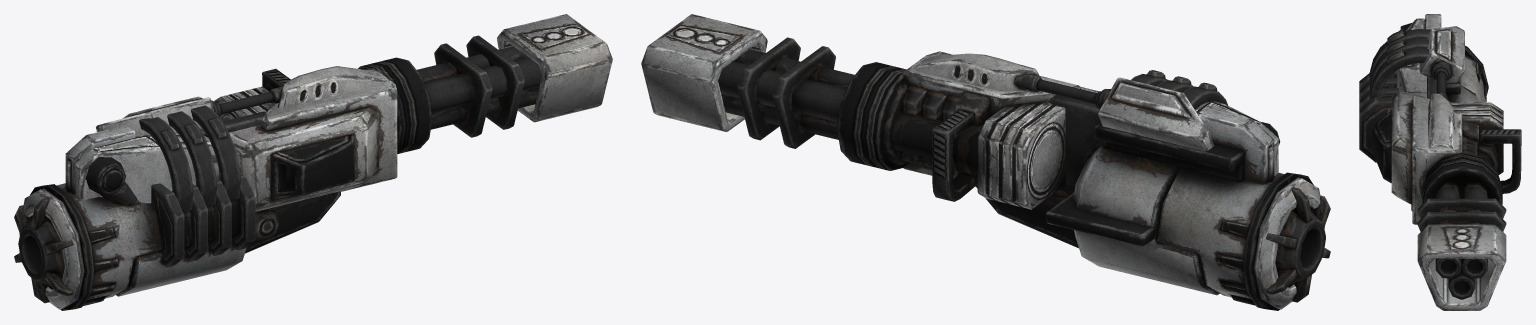
File: ion_displacer.obj
The picture shows the model from 3 angles, left to right: view 1: azimuth 30°, elevation 25°; view 2: azimuth 150°, elevation 25°; view 3: azimuth 270°, elevation 25°; orthographic projection. The views are drawn at different scales.
Parts seen in each view (by area): view 1: WEP_TurretIonGun_SKEL.mo_WEP_TurretIonGun_SKEL.md; view 2: WEP_TurretIonGun_SKEL.mo_WEP_TurretIonGun_SKEL.md; view 3: WEP_TurretIonGun_SKEL.mo_WEP_TurretIonGun_SKEL.md.
Part boxes in pixels (x1,y1,x2,y2): WEP_TurretIonGun_SKEL.mo_WEP_TurretIonGun_SKEL.md: (14, 14, 612, 310); WEP_TurretIonGun_SKEL.mo_WEP_TurretIonGun_SKEL.md: (641, 14, 1330, 310); WEP_TurretIonGun_SKEL.mo_WEP_TurretIonGun_SKEL.md: (1359, 14, 1521, 310).
Size of the model in its own units: 5.23 by 1.49 by 1.51.
